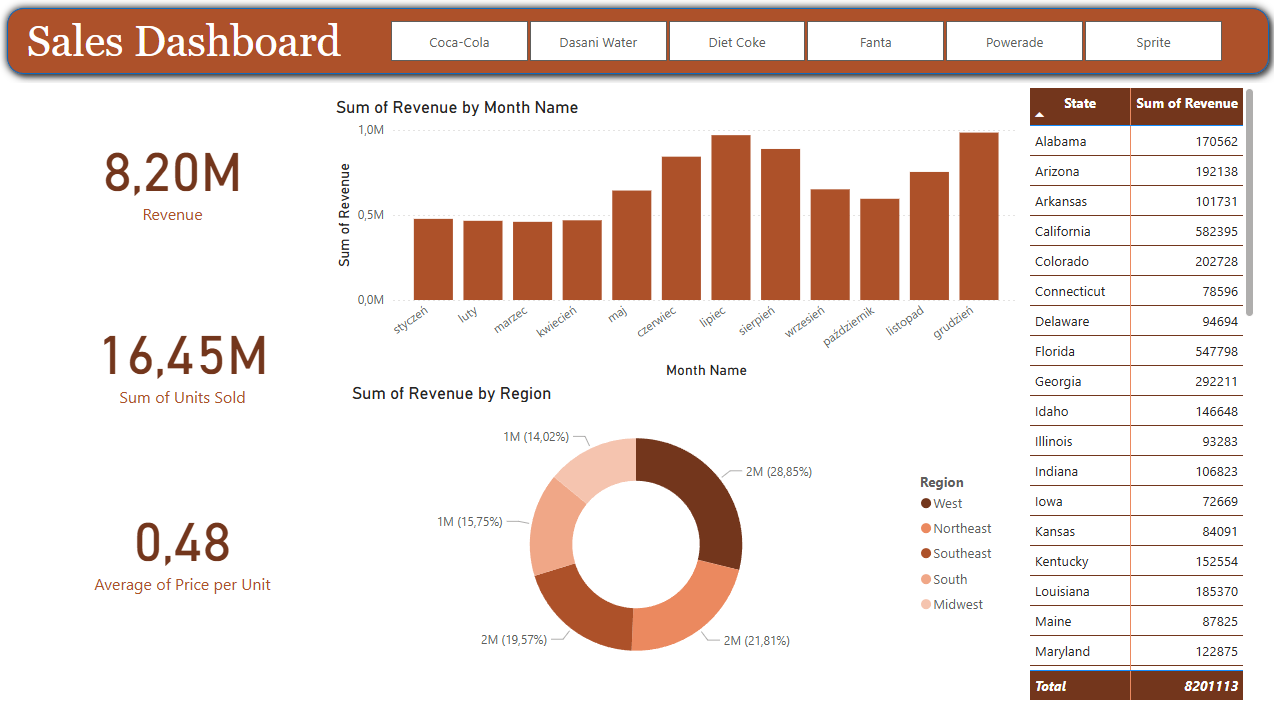

The page's visual inventory and layout, read from the dashboard file:
{"tool":"powerbi","page":{"name":"Page 1","canvas":[1280,720],"ordinal":0},"visuals":[{"type":"shape","box":[0,0,1280.4,84.1],"z":0},{"type":"shape","box":[18.6,97.7,330.3,157.1],"z":1000},{"type":"shape","box":[18.6,280.8,330.3,157.1],"z":2000},{"type":"shape","box":[9.9,467.6,348.9,157.1],"z":3000},{"type":"card","fields":{"Values":["Sum(Data.Revenue)"]},"box":[0,97.7,348.9,157.1],"z":4000},{"type":"card","fields":{"Values":["Sum(Data.Units Sold)"]},"box":[9.9,280.8,348.9,157.1],"z":5000},{"type":"card","fields":{"Values":["Avg(Data.Price per Unit)"]},"box":[9.9,467.6,348.9,157.1],"z":6000},{"type":"columnChart","fields":{"Category":["Data.Month Name"],"Y":["Sum(Data.Revenue)"]},"box":[332.8,97.7,692.8,285.8],"z":7000},{"type":"tableEx","fields":{"Values":["Data.State","Sum(Data.Revenue)"]},"box":[1025.6,84.1,235.1,622.3],"z":7001},{"type":"slicer","fields":{"Values":["Data.Beverage Brand"]},"box":[367.4,14.8,880.8,54.4],"z":7002},{"type":"donutChart","fields":{"Y":["Sum(Data.Revenue)"],"Category":["Data.Region"]},"box":[348.9,383.5,659.4,304.3],"z":7003}]}

Visuals, with their boxes in screenshot pixels (x1, y1, x2, y2), scaled from the page's 1280x720 canvas onto the 1274x715 screenshot:
shape: [left=0, top=0, right=1273, bottom=84]
shape: [left=19, top=97, right=347, bottom=253]
shape: [left=19, top=279, right=347, bottom=435]
shape: [left=10, top=464, right=357, bottom=620]
card - Sum(Data.Revenue): [left=0, top=97, right=347, bottom=253]
card - Sum(Data.Units Sold): [left=10, top=279, right=357, bottom=435]
card - Avg(Data.Price per Unit): [left=10, top=464, right=357, bottom=620]
columnChart - Data.Month Name x Sum(Data.Revenue): [left=331, top=97, right=1021, bottom=381]
tableEx - Data.State x Sum(Data.Revenue): [left=1021, top=84, right=1255, bottom=701]
slicer - Data.Beverage Brand: [left=366, top=15, right=1242, bottom=69]
donutChart - Sum(Data.Revenue) x Data.Region: [left=347, top=381, right=1004, bottom=683]
